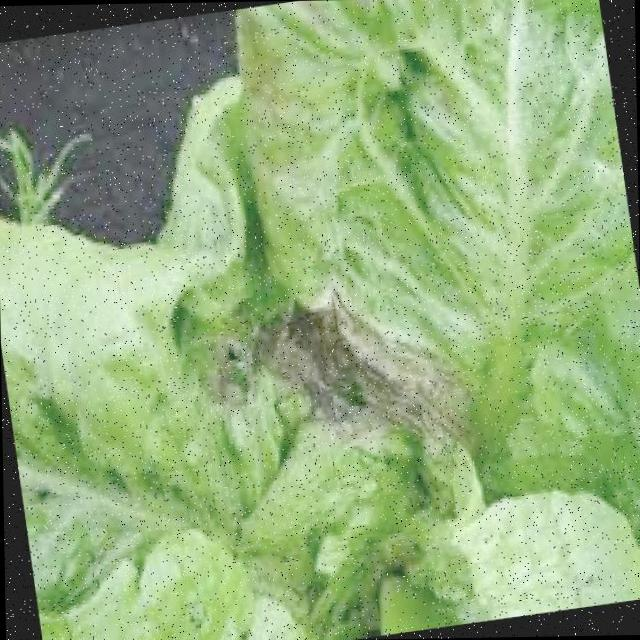Septoria_Blight: (157, 226, 518, 569)
